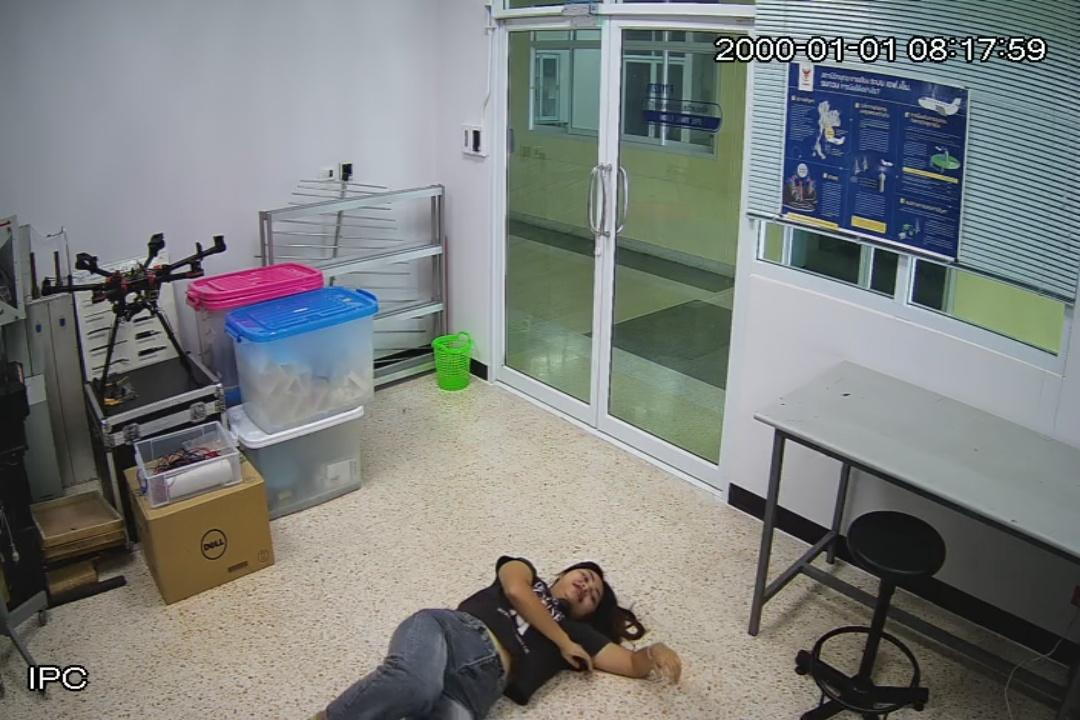fall: (337, 553, 680, 720)
